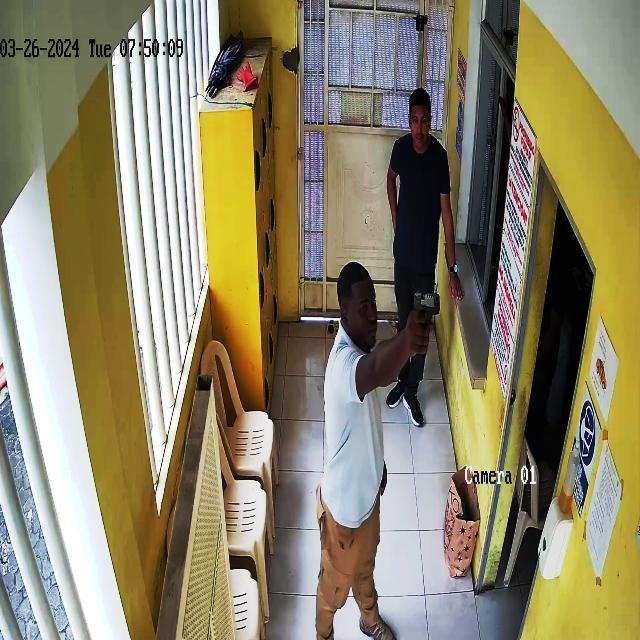Gun: (408, 283, 450, 347)
